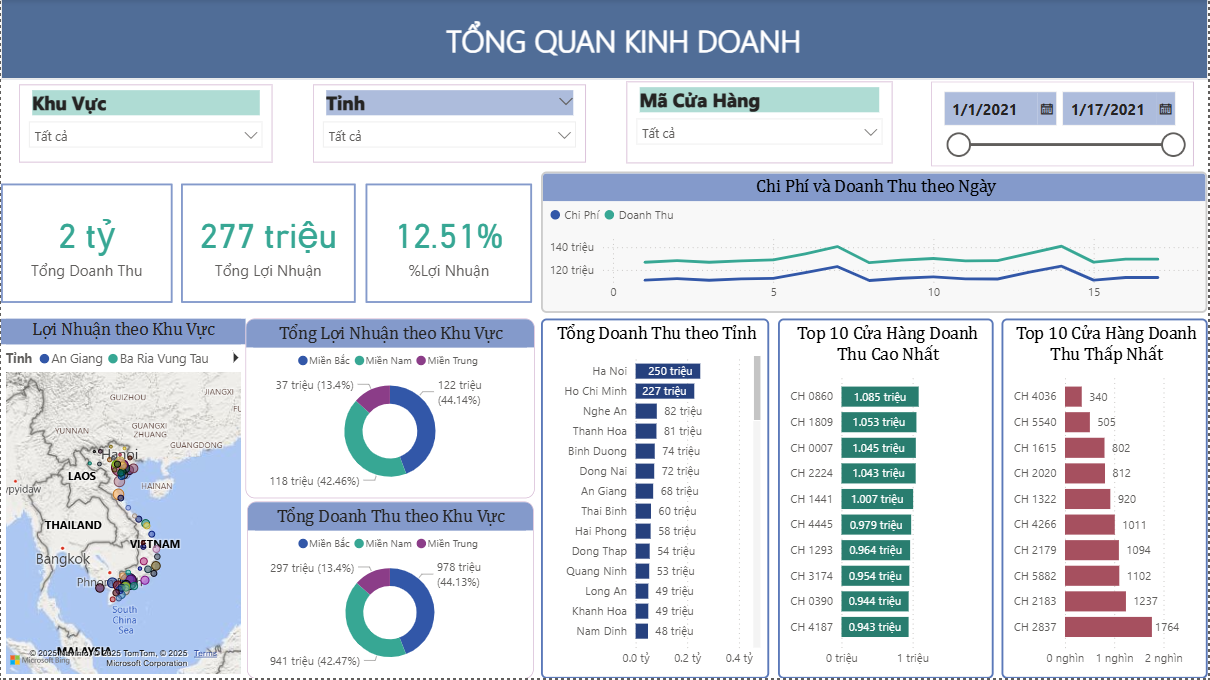

The page's visual inventory and layout, read from the dashboard file:
{"tool":"powerbi","page":{"name":"Trang 1","canvas":[1280,720],"ordinal":0},"visuals":[{"type":"shape","box":[0,0,1280,85],"z":0},{"type":"textbox","box":[254.5,15.9,811.2,73.2],"z":1000},{"type":"slicer","title":"12","fields":{"Values":["DS Cua Hang.Tỉnh"]},"box":[330.8,90.1,289.5,82.7],"z":2000},{"type":"slicer","fields":{"Values":["DS Cua Hang.Mã Cửa Hàng"]},"box":[662.7,87.7,281.7,86.7],"z":3000},{"type":"slicer","fields":{"Values":["DS Tinh.Khu Vực"]},"box":[19.6,90.1,268.8,82.7],"z":4000},{"type":"slicer","fields":{"Values":["Ket Qua KD.Ngày"]},"box":[986.8,87.7,278.3,90],"z":5000},{"type":"card","fields":{"Values":["Sum(Ket Qua KD.Doanh Thu)"]},"box":[0,195,181.7,126.7],"z":6000},{"type":"card","fields":{"Values":["Sum(Ket Qua KD.Lợi Nhuận)"]},"box":[191.7,195,185,126.7],"z":7000},{"type":"card","fields":{"Values":["DS Cua Hang.%Lợi Nhuận"]},"box":[386.7,195,176.7,126.7],"z":8000},{"type":"lineChart","fields":{"Category":["Ket Qua KD.Ngày.Biến động.Phân cấp ngày tháng.Ngày"],"Y":["Sum(Ket Qua KD.Chi Phí)","Sum(Ket Qua KD.Doanh Thu)"]},"box":[573.3,183.3,706.7,150],"z":9000},{"type":"map","title":"Lợi Nhuận theo Khu Vực","fields":{"Series":["DS Tinh.Tỉnh"],"Size":["Sum(Ket Qua KD.Lợi Nhuận)"],"Y":["DS Tinh.Vĩ Độ"],"X":["DS Tinh.Kinh Độ"]},"box":[0,338.8,259.3,381.7],"z":10000},{"type":"donutChart","title":"Tổng Lợi Nhuận theo Khu Vực","fields":{"Y":["Sum(Ket Qua KD.Lợi Nhuận)"],"Category":["DS Tinh.Khu Vực"]},"box":[259.3,338.8,307,190.9],"z":11000},{"type":"donutChart","fields":{"Y":["Sum(Ket Qua KD.Doanh Thu)"],"Category":["DS Tinh.Khu Vực"]},"box":[260.1,532.9,303.8,187.7],"z":12000},{"type":"clusteredBarChart","title":"Tổng Doanh Thu theo Tỉnh","fields":{"Category":["DS Tinh.Tỉnh"],"Y":["Sum(Ket Qua KD.Doanh Thu)"]},"box":[573.3,338.3,241.7,381.7],"z":13000},{"type":"clusteredBarChart","title":"Top 10 Cửa Hàng Doanh Thu Cao Nhất","fields":{"Category":["DS Cua Hang.Mã Cửa Hàng"],"Y":["Sum(Ket Qua KD.Doanh Thu)"]},"box":[824.2,338.3,228.3,381.7],"z":14000},{"type":"clusteredBarChart","title":"Top 10 Cửa Hàng Doanh Thu Thấp Nhất","fields":{"Category":["DS Cua Hang.Mã Cửa Hàng"],"Y":["Sum(Ket Qua KD.Doanh Thu)"]},"box":[1061.7,338.3,218.3,381.7],"z":15000}]}

Visuals, with their boxes in screenshot pixels (x1, y1, x2, y2), scaled from the page's 1280x720 canvas onto the 1210x680 screenshot:
shape: <box>0,0,1209,80</box>
textbox: <box>241,15,1007,84</box>
"12" slicer: <box>313,85,586,163</box>
slicer - DS Cua Hang.Mã Cửa Hàng: <box>626,83,893,165</box>
slicer - DS Tinh.Khu Vực: <box>19,85,273,163</box>
slicer - Ket Qua KD.Ngày: <box>933,83,1196,168</box>
card - Sum(Ket Qua KD.Doanh Thu): <box>0,184,172,304</box>
card - Sum(Ket Qua KD.Lợi Nhuận): <box>181,184,356,304</box>
card - DS Cua Hang.%Lợi Nhuận: <box>366,184,533,304</box>
lineChart - Ket Qua KD.Ngày.Biến động.Phân cấp ngày tháng.Ngày x Sum(Ket Qua KD.Chi Phí): <box>542,173,1209,315</box>
"Lợi Nhuận theo Khu Vực" map: <box>0,320,245,679</box>
"Tổng Lợi Nhuận theo Khu Vực" donutChart: <box>245,320,535,500</box>
donutChart - Sum(Ket Qua KD.Doanh Thu) x DS Tinh.Khu Vực: <box>246,503,533,679</box>
"Tổng Doanh Thu theo Tỉnh" clusteredBarChart: <box>542,320,770,679</box>
"Top 10 Cửa Hàng Doanh Thu Cao Nhất" clusteredBarChart: <box>779,320,995,679</box>
"Top 10 Cửa Hàng Doanh Thu Thấp Nhất" clusteredBarChart: <box>1004,320,1209,679</box>
